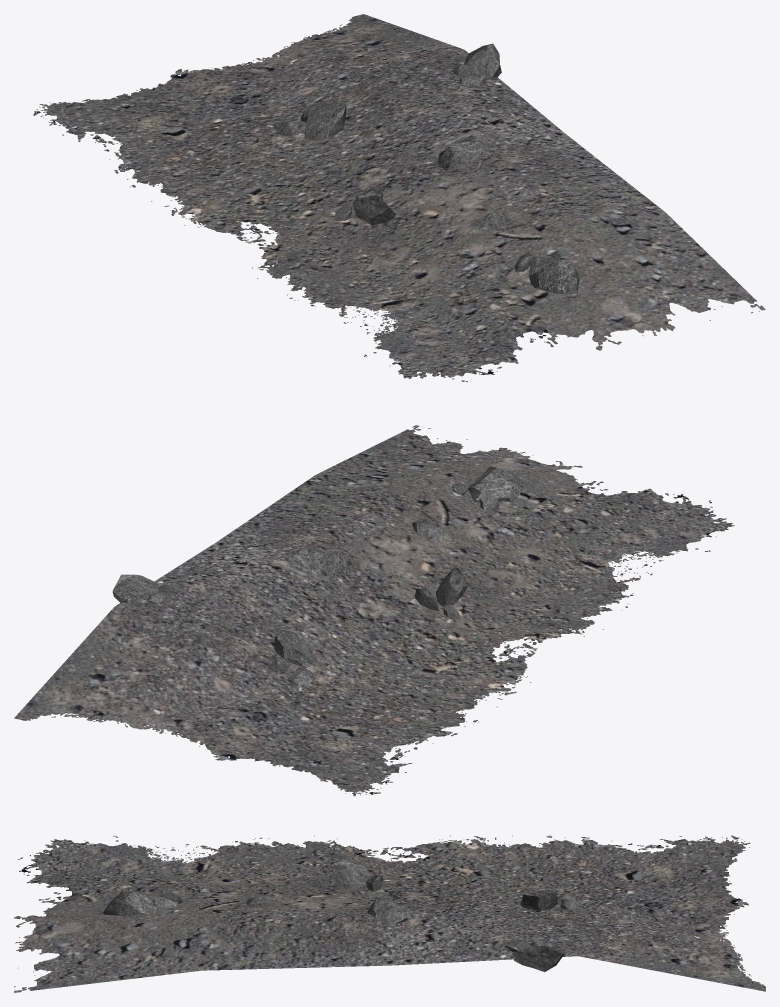
Rendered from Dirt.fbx.
The picture shows the model from 3 angles, top to bottom: view 1: azimuth 30°, elevation 25°; view 2: azimuth 150°, elevation 25°; view 3: azimuth 270°, elevation 25°; orthographic projection. The views are drawn at different scales.
Parts seen in each view (by area): view 1: Cube_010; view 2: Cube_010; view 3: Cube_010.
Boxes of the visible parts, x1,y1,x2,y2 form: Cube_010: [33, 14, 765, 382]; Cube_010: [14, 425, 734, 796]; Cube_010: [14, 835, 765, 992].
Size of the model in its own units: 2.81 by 0.4246 by 5.38.
